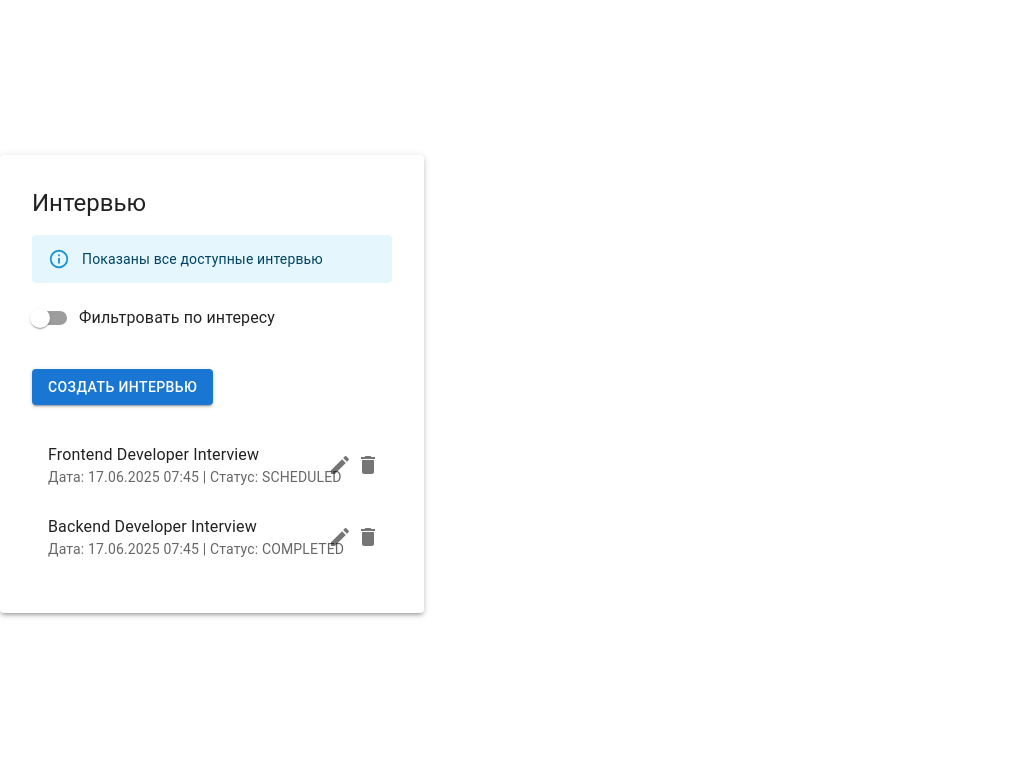
Test: InterviewPage › Создание и редактирование интервью › должен открывать диалог создания интервью
Expected: the heading "Интервью" is shown, left=32, top=189, right=146, bottom=217
Click the button "Создать интервью".
click(123, 387)  # box left=32, top=369, right=213, bottom=405
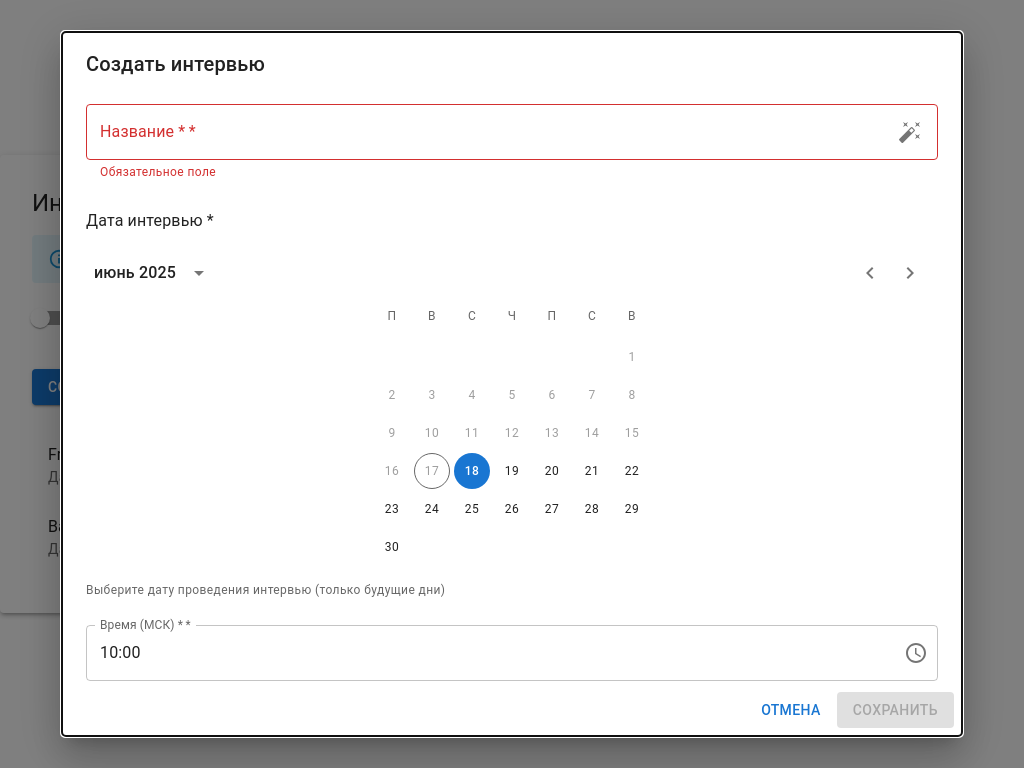
Expected: the dialog is shown
Expected: the dialog shows "Создать интервью", left=86, top=52, right=265, bottom=76
Expected: the field labelled "Название * *" is shown, left=86, top=104, right=885, bottom=160
